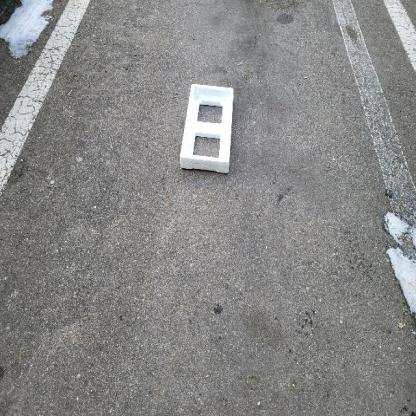Glass Cup: (180, 83, 233, 174), (180, 84, 234, 173)
